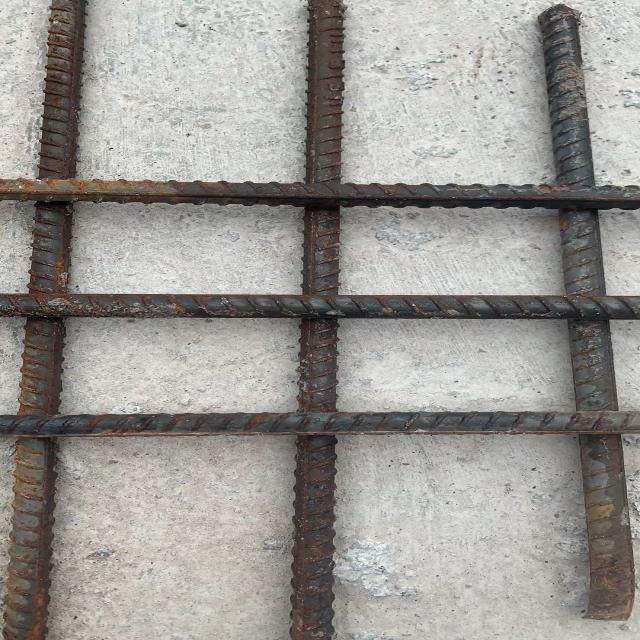ribbed bar: (539, 3, 639, 622), (3, 0, 91, 639), (286, 0, 347, 639), (0, 176, 639, 213), (0, 410, 639, 439), (0, 293, 639, 321)
